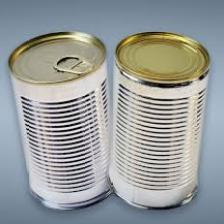metal: (7, 23, 113, 205), (113, 27, 215, 210)
